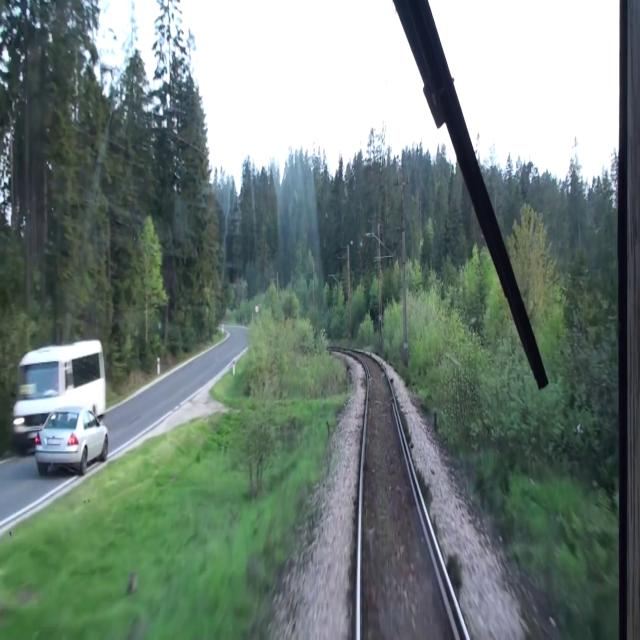rail-track: (361, 356, 452, 639), (455, 635, 464, 639)
